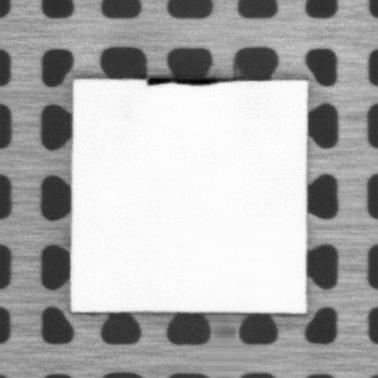DIE_BROKEN: (145, 75, 237, 87)
